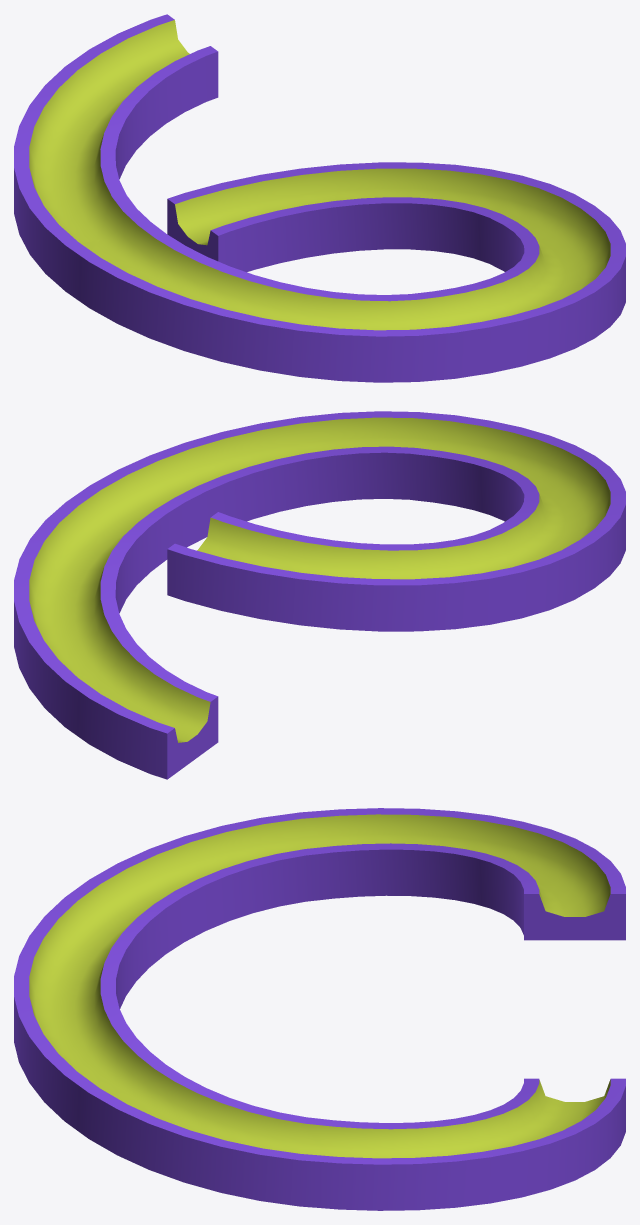
The model's file is helix_large_right-col.dae.
The picture shows the model from 3 angles, top to bottom: view 1: azimuth 30°, elevation 25°; view 2: azimuth 150°, elevation 25°; view 3: azimuth 270°, elevation 25°; orthographic projection.
Visible parts, largest first — view 1: helix_large_right-col; view 2: helix_large_right-col; view 3: helix_large_right-col.
Boxes of the visible parts, <box> form: helix_large_right-col: <box>14,14,625,382</box>; helix_large_right-col: <box>14,411,625,779</box>; helix_large_right-col: <box>14,808,625,1210</box>.
Bounding box in the file's own units: 6 × 6 × 2.5.
